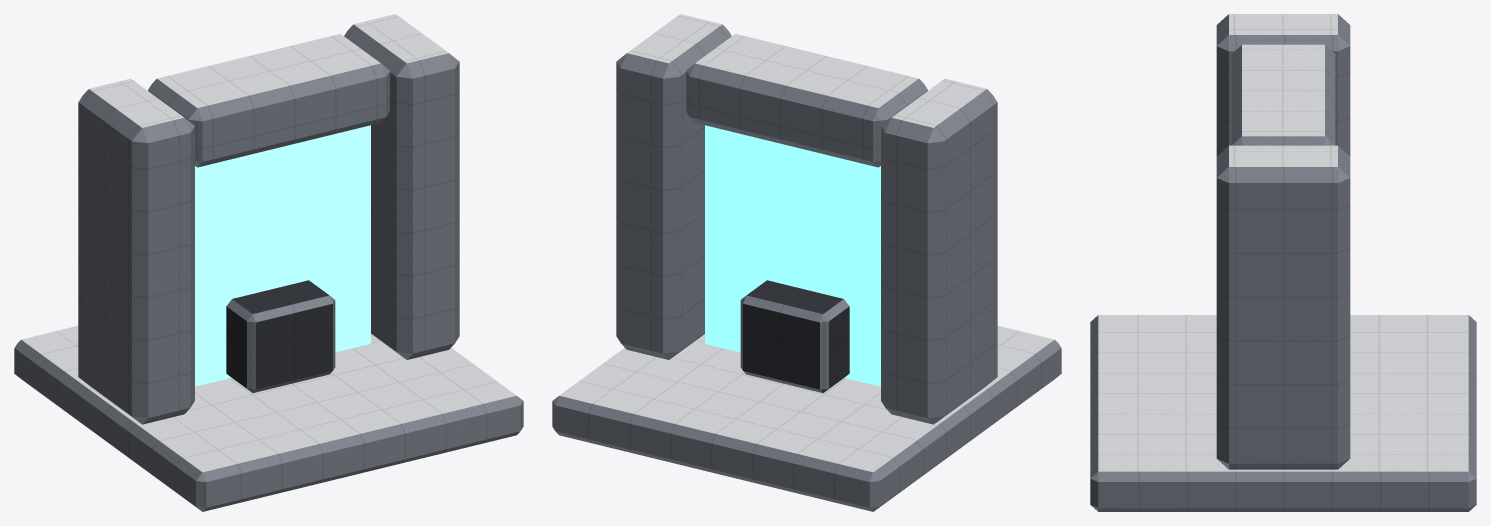
File: R4X_StructuralScanner_LOD1.glb
The picture shows the model from 3 angles, left to right: view 1: azimuth 30°, elevation 25°; view 2: azimuth 150°, elevation 25°; view 3: azimuth 270°, elevation 25°; orthographic projection. The views are drawn at different scales.
Parts seen in each view (by area): view 1: R4X_StructuralScanner_LOD1; view 2: R4X_StructuralScanner_LOD1; view 3: R4X_StructuralScanner_LOD1.
Boxes of the visible parts, bbox=[...] form: R4X_StructuralScanner_LOD1: bbox=[14, 14, 523, 511]; R4X_StructuralScanner_LOD1: bbox=[552, 14, 1061, 511]; R4X_StructuralScanner_LOD1: bbox=[1090, 14, 1476, 511].
Bounding box in the file's own units: 0.52 × 0.51 × 0.52.
4 materials, 3 textured.
